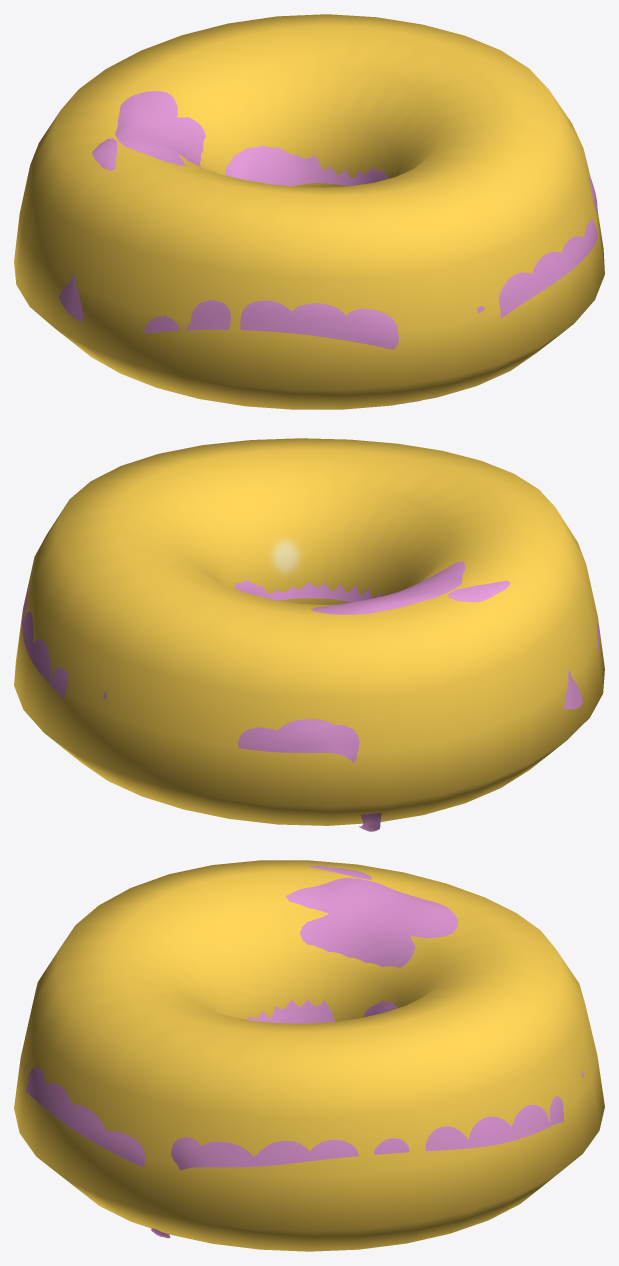
The model's file is donut.gltf.
3 views of the same model, one above another, from view 1: azimuth 30°, elevation 25°; view 2: azimuth 150°, elevation 25°; view 3: azimuth 270°, elevation 25° (orthographic).
Parts seen in each view (by area): view 1: Donut, icing; view 2: Donut, icing; view 3: Donut, icing.
Part boxes in pixels (bbox=[...]): Donut: bbox=[14, 14, 604, 409]; icing: bbox=[58, 91, 597, 403]; Donut: bbox=[14, 438, 604, 825]; icing: bbox=[22, 561, 599, 831]; Donut: bbox=[14, 860, 604, 1251]; icing: bbox=[24, 865, 583, 1238].
Size of what is drawn, in the model's own units: 0.143 by 0.0574 by 0.1429.
Materials: 2 (1 with a texture image).
